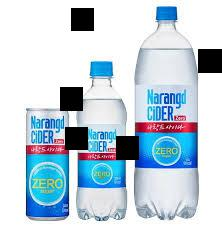narangdcider: (24, 106, 70, 222)
